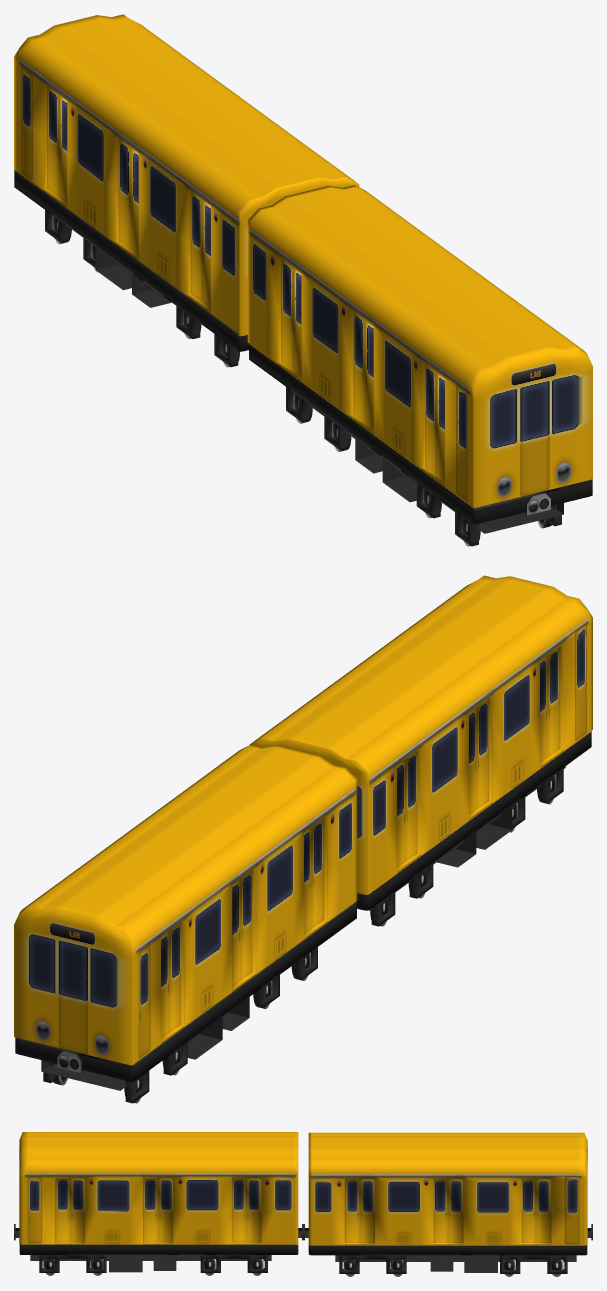
Rendered from ubahn_transform.glb.
3 views of the same model, one above another, from view 1: azimuth 30°, elevation 25°; view 2: azimuth 150°, elevation 25°; view 3: azimuth 270°, elevation 25° (orthographic). The views are drawn at different scales.
Parts seen in each view (by area): view 1: Object_2.001; view 2: Object_2.001; view 3: Object_2.001.
Boxes of the visible parts, box(x1,y1,x2,y2) form: Object_2.001: box(14, 14, 592, 546); Object_2.001: box(14, 575, 592, 1103); Object_2.001: box(14, 1132, 592, 1276).
Size of the model in its own units: 7.81 by 12.2 by 52.94.
Materials: 1 (1 with a texture image).
